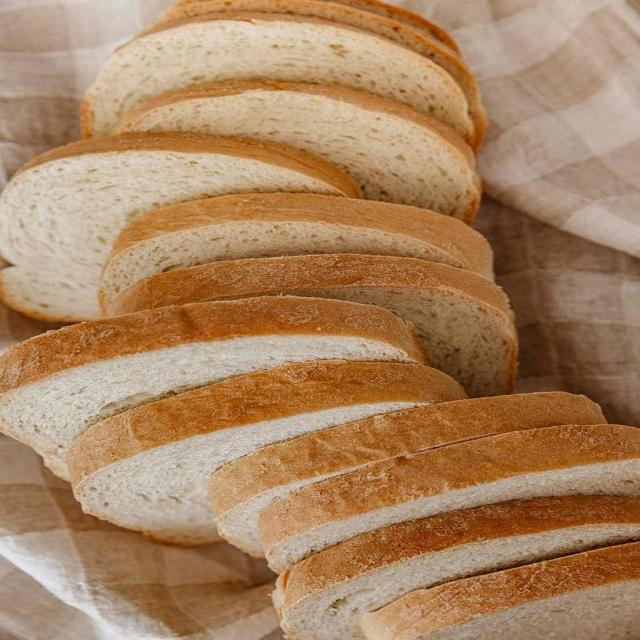sliced_bread: (0, 297, 422, 478), (67, 361, 465, 544), (0, 134, 359, 322), (210, 393, 605, 554), (108, 255, 516, 396), (260, 425, 639, 572), (274, 495, 639, 639), (118, 82, 479, 222), (82, 12, 474, 140), (151, 0, 486, 147), (100, 194, 493, 308), (362, 543, 639, 639), (333, 0, 460, 55)
